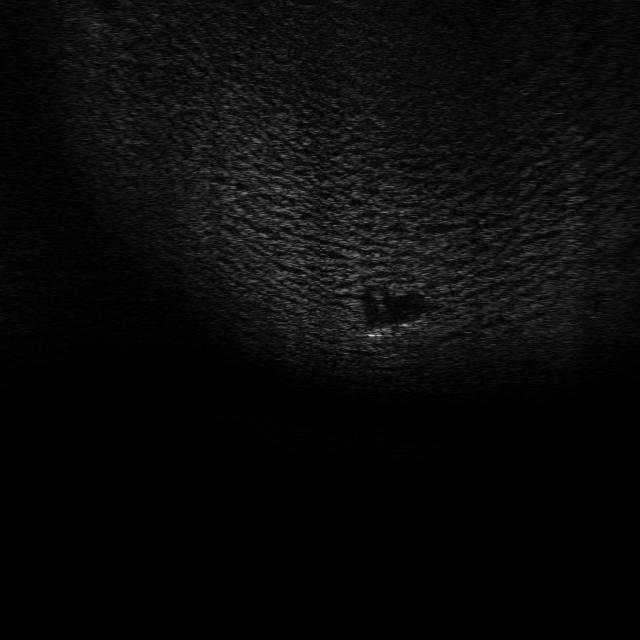plane: (362, 316, 422, 344)
